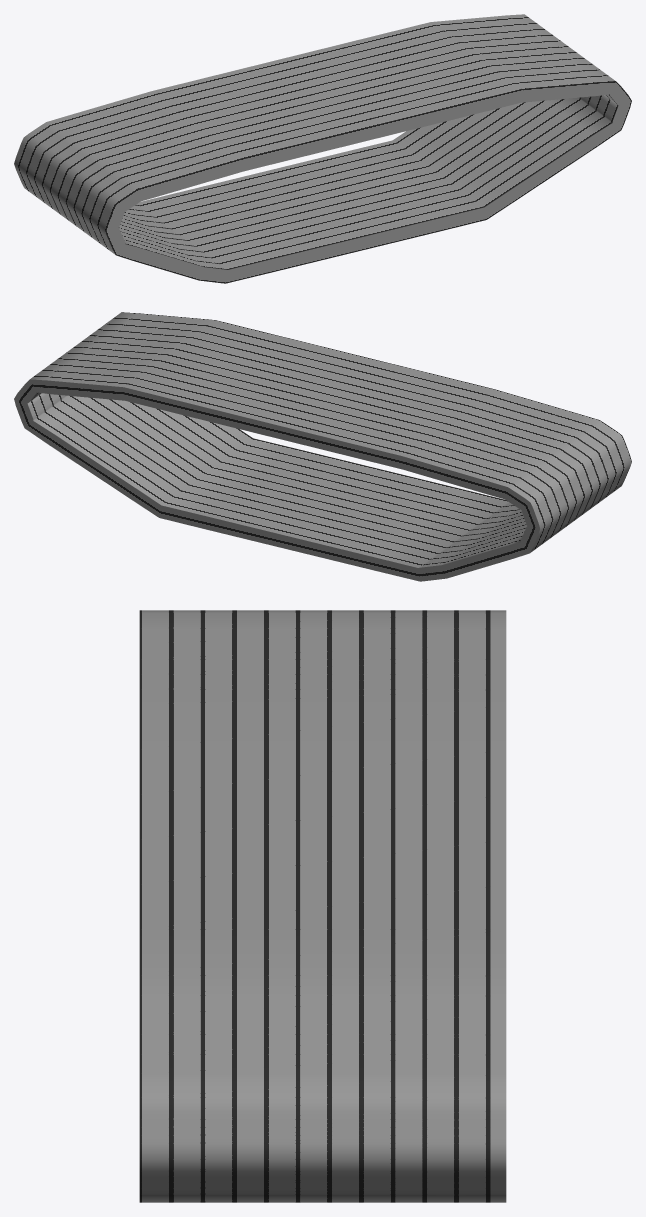
Rendered from tankwheels2.FBX.
3 views of the same model, one above another, from view 1: azimuth 30°, elevation 25°; view 2: azimuth 150°, elevation 25°; view 3: azimuth 270°, elevation 25° (orthographic). The views are drawn at different scales.
Visible parts, largest first — view 1: Loft001; view 2: Loft001; view 3: Loft001.
Boxes of the visible parts, x1,y1,x2,y2 form: Loft001: (14,14,631,283); Loft001: (14,312,631,581); Loft001: (139,610,506,1202).
Bounding box in the file's own units: 251 × 55.7 × 75.76.
Materials: 1 (1 with a texture image).
